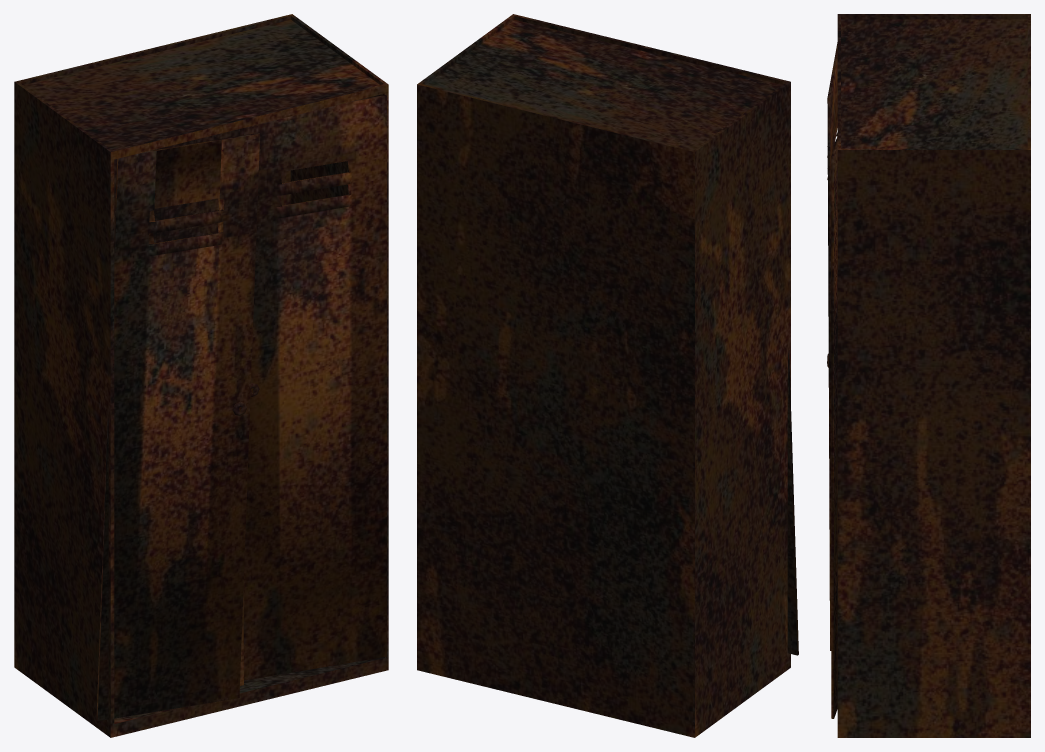
Rendered from locker.glb.
3 views of the same model, side by side, from view 1: azimuth 30°, elevation 25°; view 2: azimuth 150°, elevation 25°; view 3: azimuth 270°, elevation 25° (orthographic).
Visible parts, largest first — view 1: Куб.014; view 2: Куб.014; view 3: Куб.014.
Boxes of the visible parts, x1=… form: Куб.014: x1=14, y1=14, x2=388, y2=737; Куб.014: x1=417, y1=14, x2=798, y2=737; Куб.014: x1=827, y1=14, x2=1030, y2=737.
Size of the model in its own units: 0.83 by 1.61 by 0.5063.
1 material, 1 textured.
